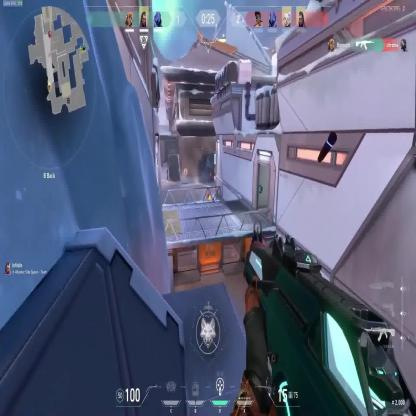enemy: (209, 172, 214, 183)
enemy_head: (210, 172, 212, 176)
